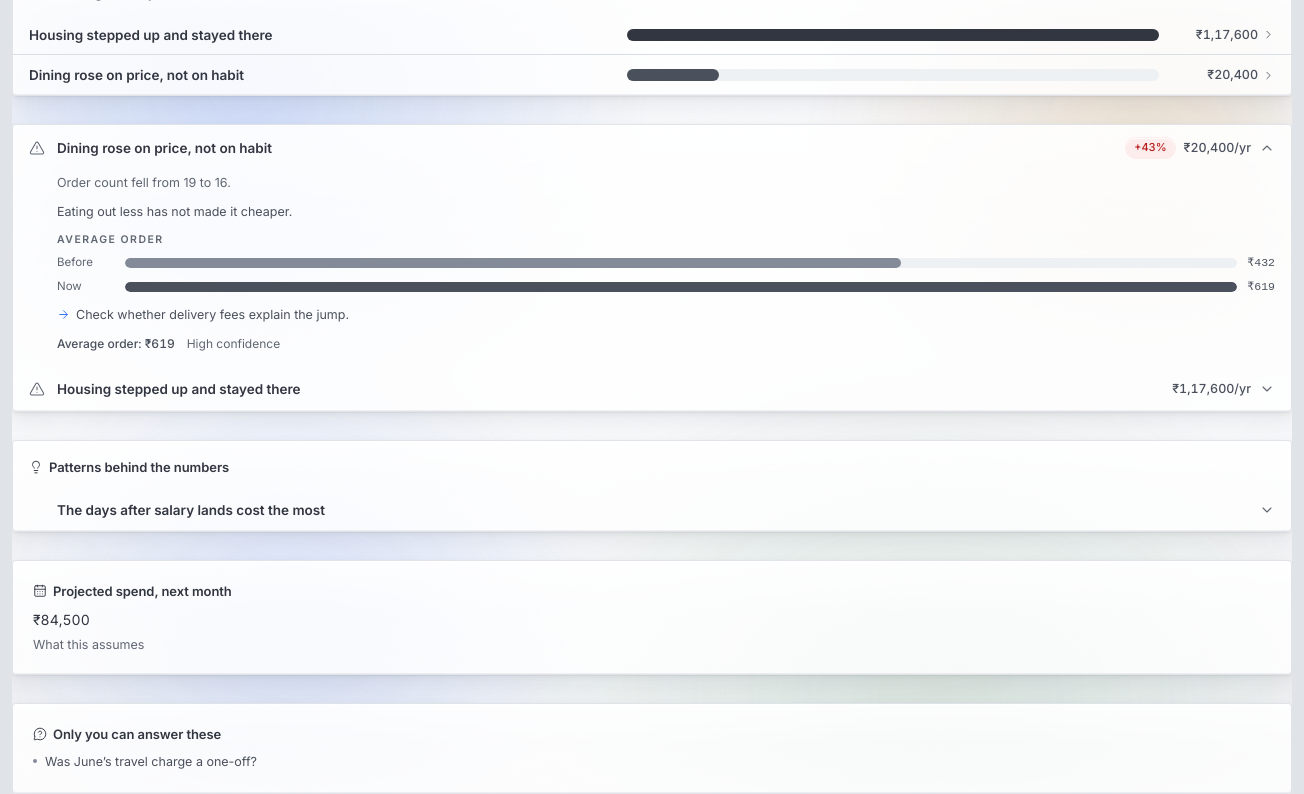
Test: InsightsRunView › opens the projection’s assumptions on demand
The width and height of the screenshot is (1304, 794).
(page scrolled)
Click the button "What this assumes". click: (89, 644)
box: [33, 635, 1271, 654]
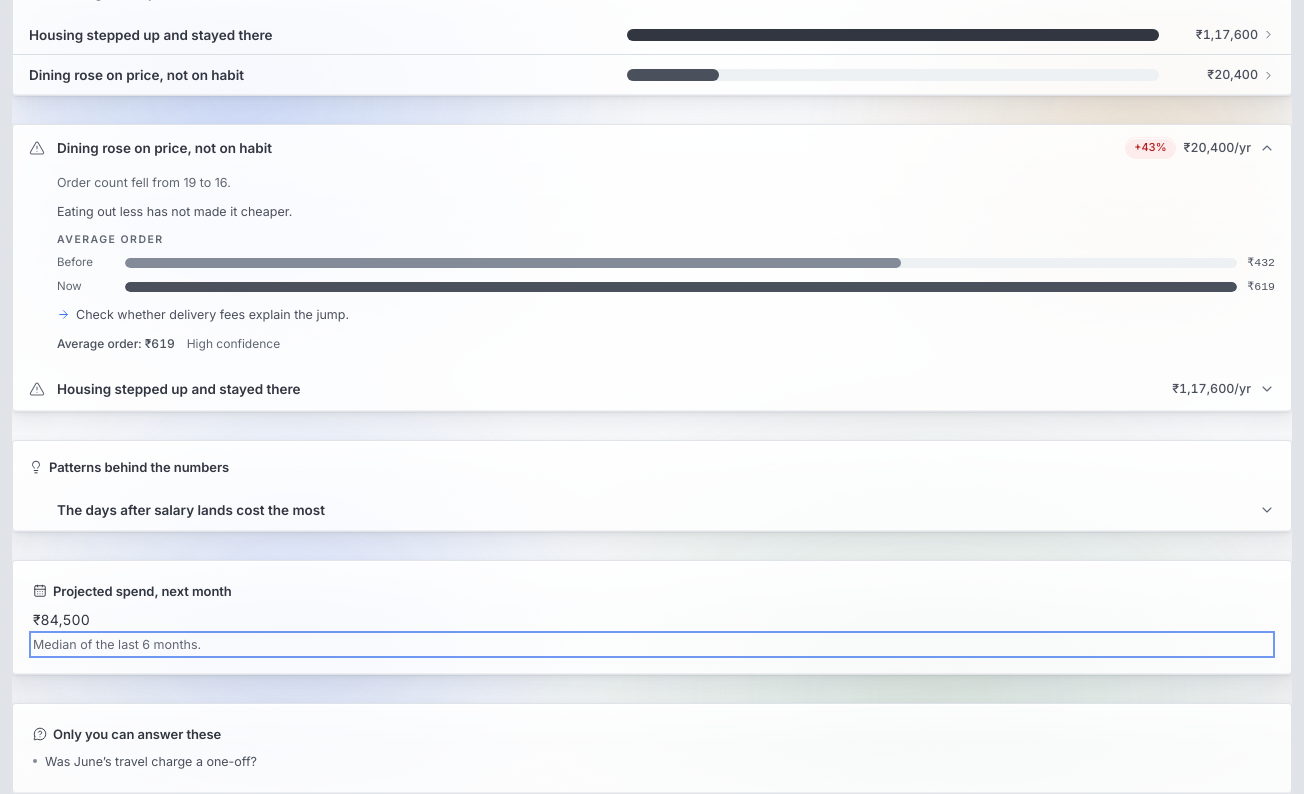
Check: the button "Median of the last 6 months." is shown, box [33, 635, 1271, 654]
